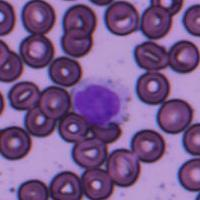L: (73, 78, 130, 127)
